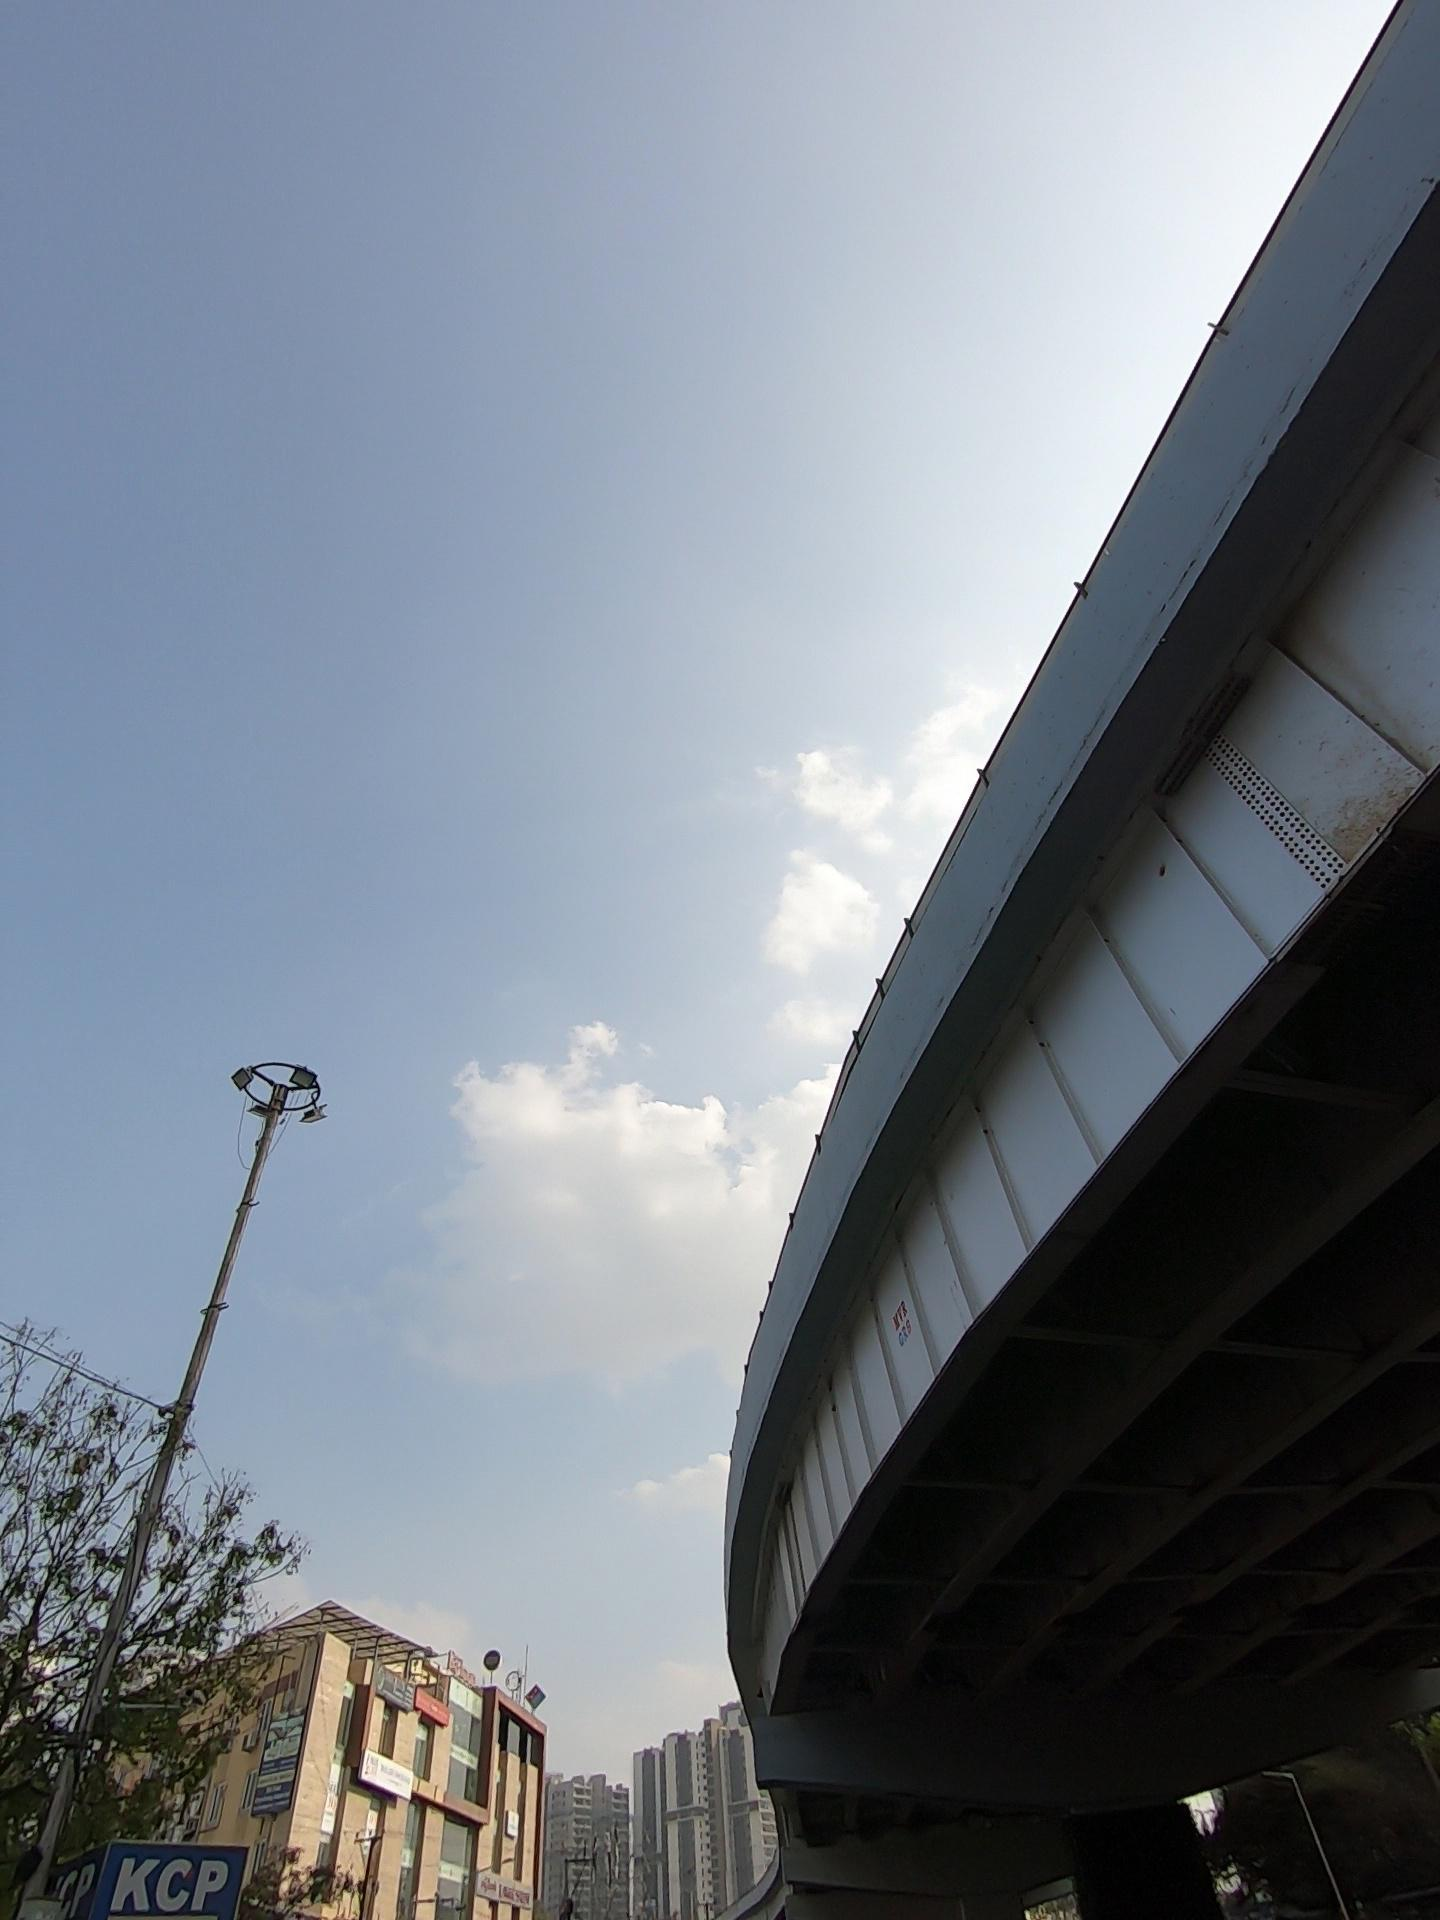off: (180, 1005, 428, 1244)
